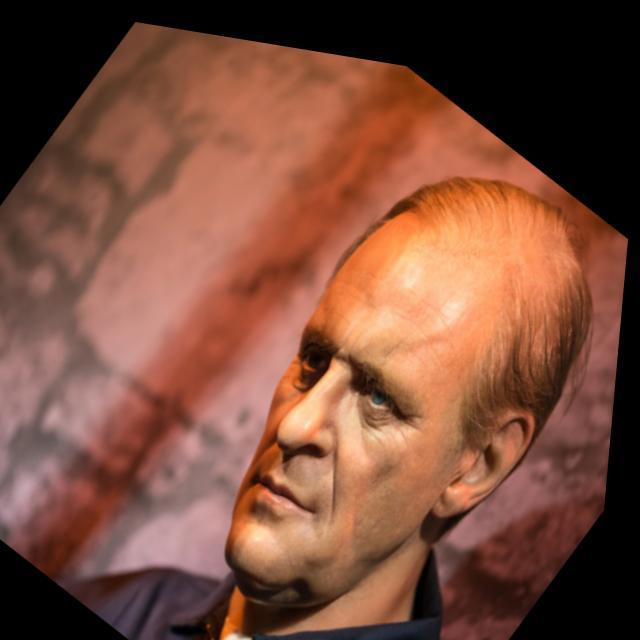Nonhelmet: (211, 174, 595, 601)
